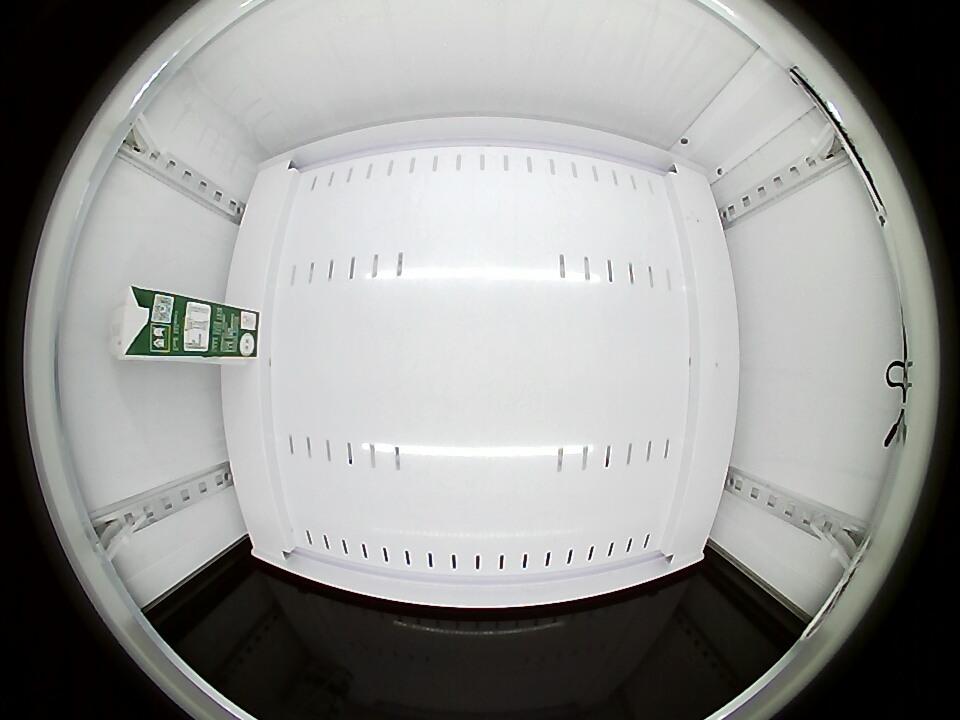jindian: (108, 286, 178, 361)
